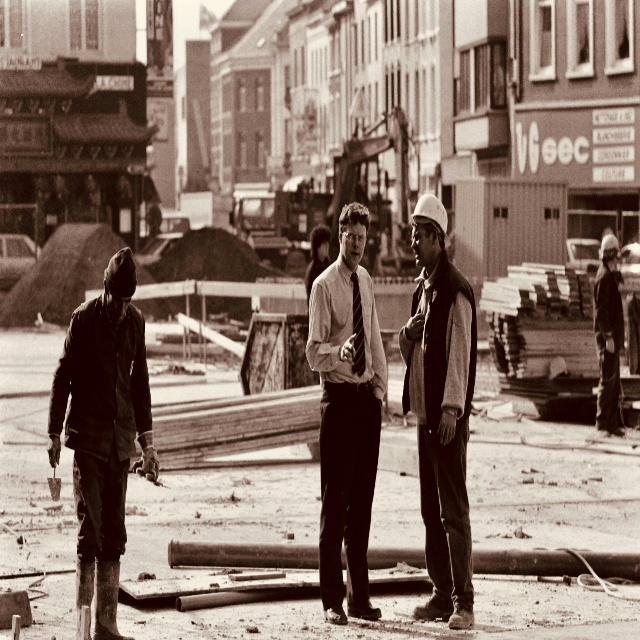Gafas: (343, 229, 366, 246)
Guantes: (131, 430, 159, 481), (605, 337, 615, 354)
Sin_guantes: (436, 409, 456, 447), (406, 307, 426, 341), (340, 333, 357, 367), (46, 434, 61, 467)
